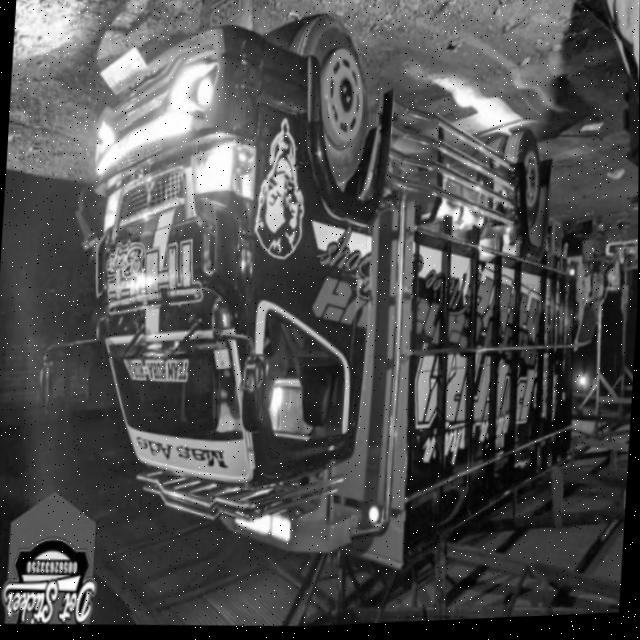truck: (33, 2, 435, 588)
